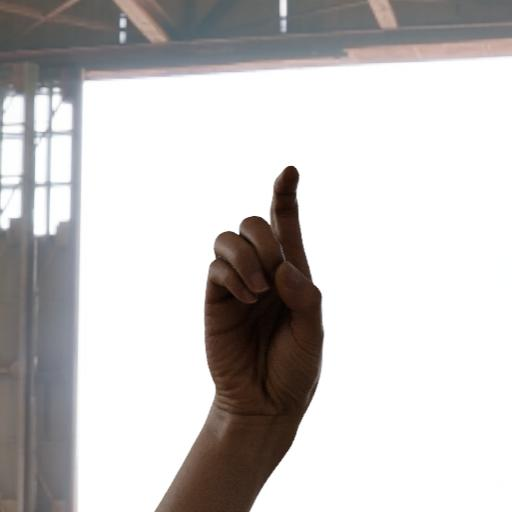X: (179, 162, 331, 481)
